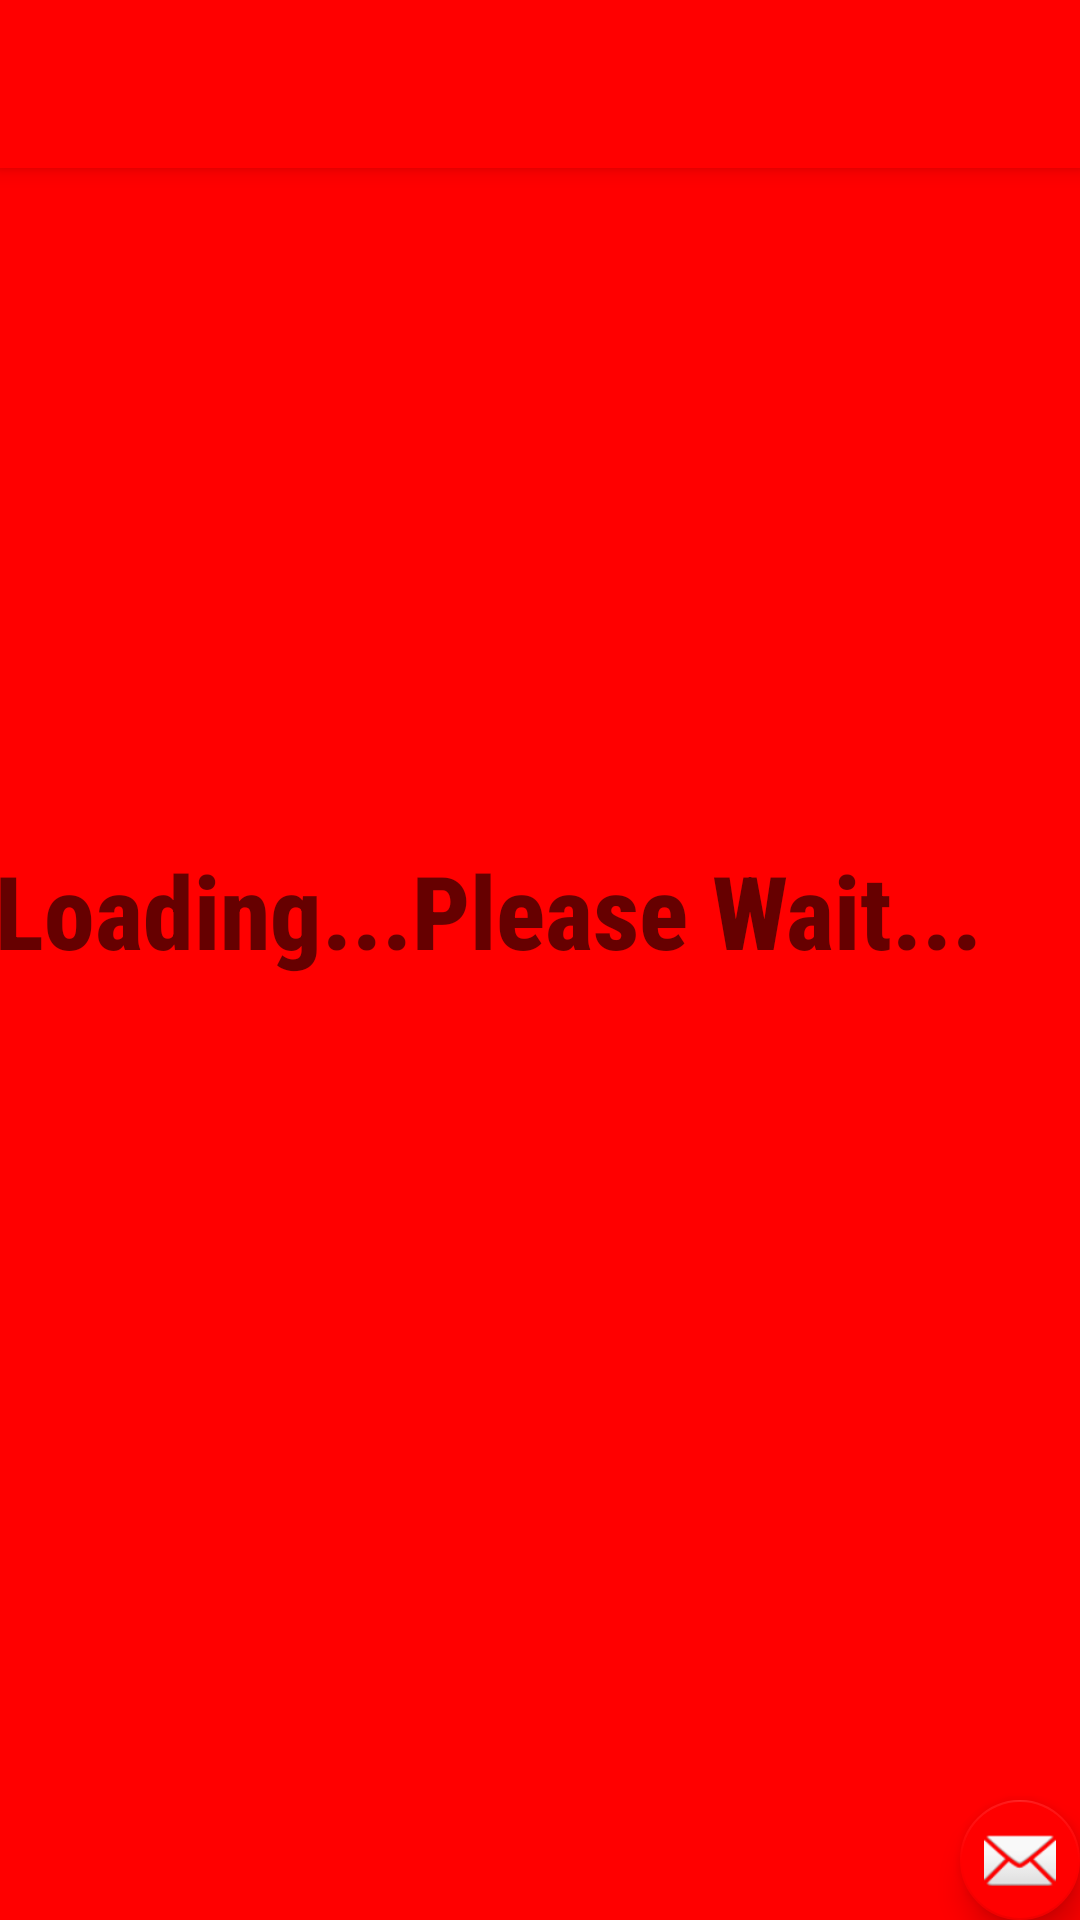

Icons on this 1080px x 1920px Android screen, each with its box as bbox=[x1, y1, x2, y2]:
email: bbox=[967, 1800, 1080, 1920]
